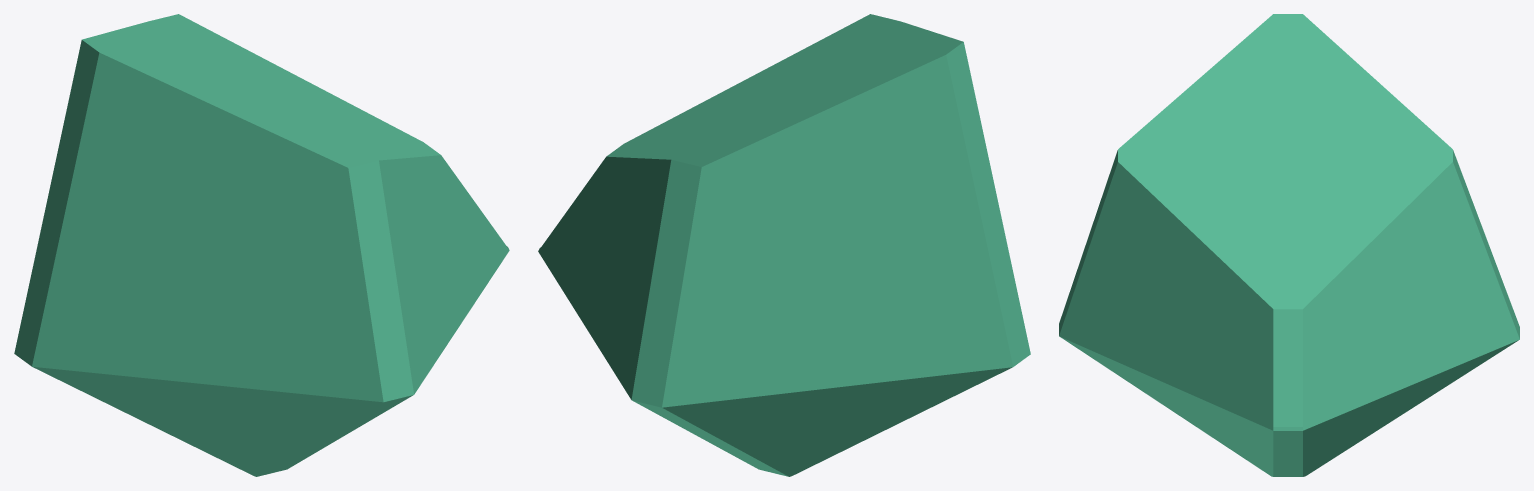
File: carrotGreenCollider.obj
The picture shows the model from 3 angles, left to right: view 1: azimuth 30°, elevation 25°; view 2: azimuth 150°, elevation 25°; view 3: azimuth 270°, elevation 25°; orthographic projection. The views are drawn at different scales.
Visible parts, largest first — view 1: carrotGreen.001; view 2: carrotGreen.001; view 3: carrotGreen.001.
Boxes of the visible parts, left/top/right/bottom form: carrotGreen.001: left=14, top=14, right=509, bottom=476; carrotGreen.001: left=538, top=14, right=1030, bottom=476; carrotGreen.001: left=1059, top=14, right=1519, bottom=476.
Size of the model in its own units: 0.1728 by 0.1596 by 0.1726.
